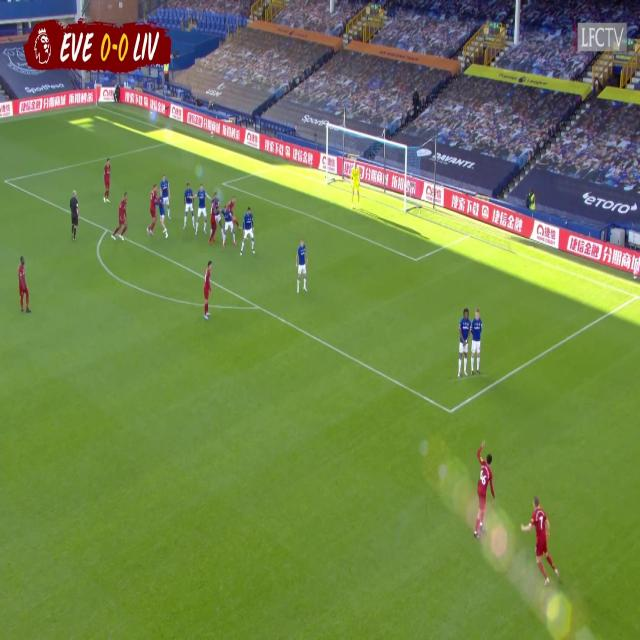TEAM 1: (519, 497, 559, 594), (475, 444, 498, 541), (17, 257, 31, 313), (114, 197, 130, 243), (202, 261, 214, 318), (148, 183, 160, 240), (102, 160, 111, 201), (210, 198, 217, 244), (225, 193, 238, 215)
TEAM 2: (457, 309, 474, 373), (469, 308, 485, 373), (240, 208, 255, 258), (222, 203, 238, 248), (297, 238, 309, 296), (348, 165, 363, 209), (196, 186, 207, 234), (185, 183, 195, 229), (162, 174, 172, 218), (158, 188, 165, 236), (212, 190, 220, 203)
